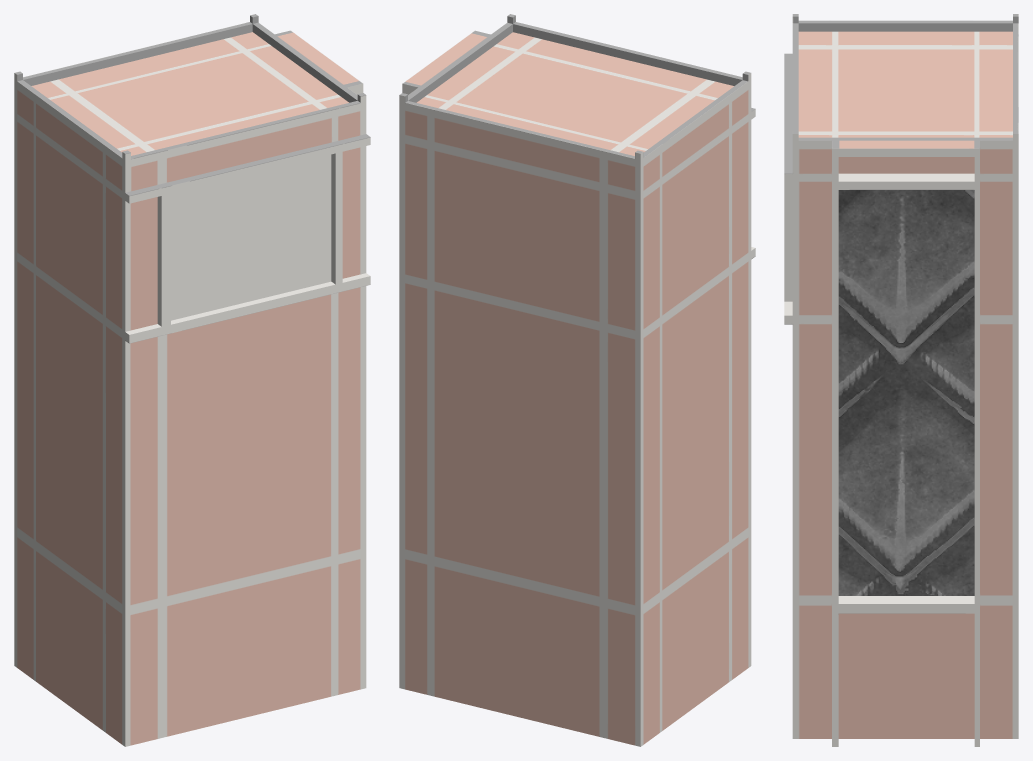
The model's file is ChaosZooCityMapTower09.fbx.
The picture shows the model from 3 angles, left to right: view 1: azimuth 30°, elevation 25°; view 2: azimuth 150°, elevation 25°; view 3: azimuth 270°, elevation 25°; orthographic projection.
Visible parts, largest first — view 1: pCube98; view 2: pCube98; view 3: pCube98.
Part boxes in pixels (left/top/right/bottom): pCube98: left=14, top=14, right=370, bottom=746; pCube98: left=399, top=14, right=755, bottom=746; pCube98: left=784, top=14, right=1018, bottom=746.
Size of the model in its own units: 53.38 by 118 by 41.27.
